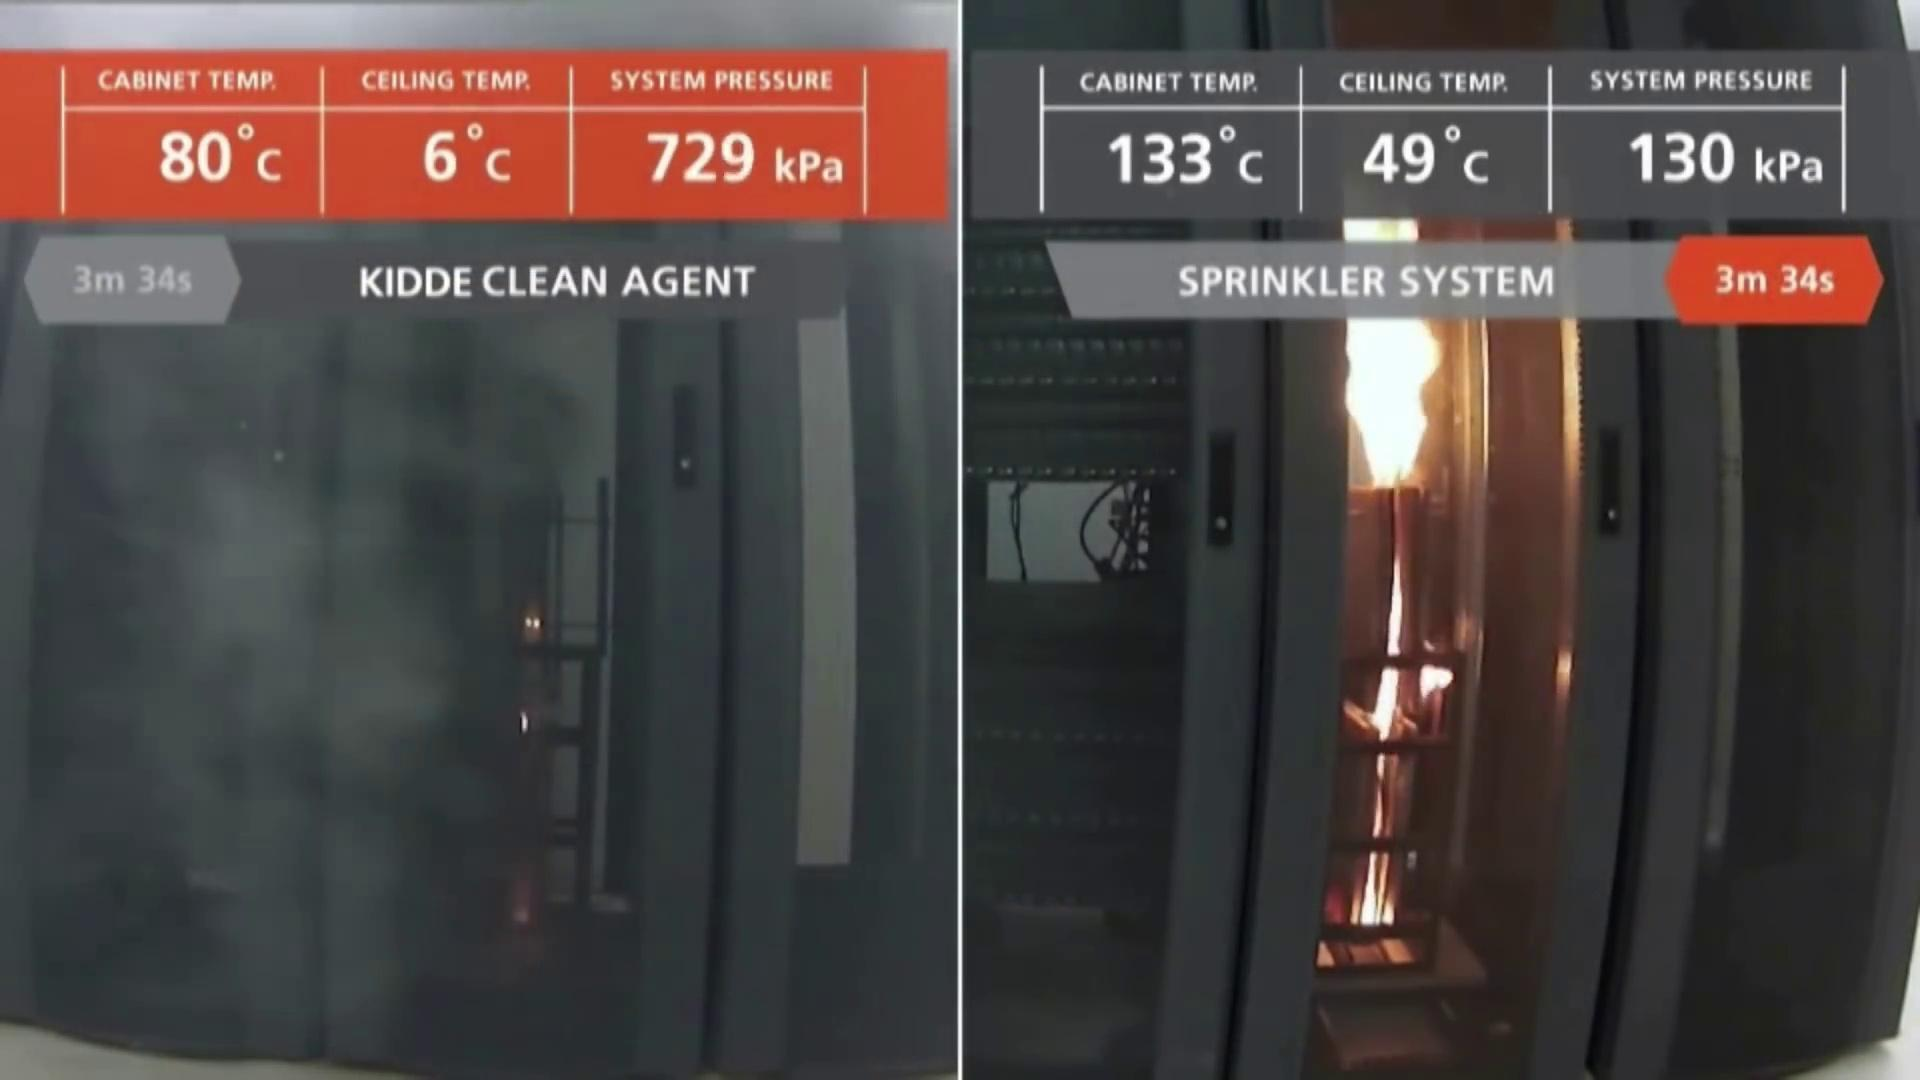fire: (1261, 108, 1727, 1021)
